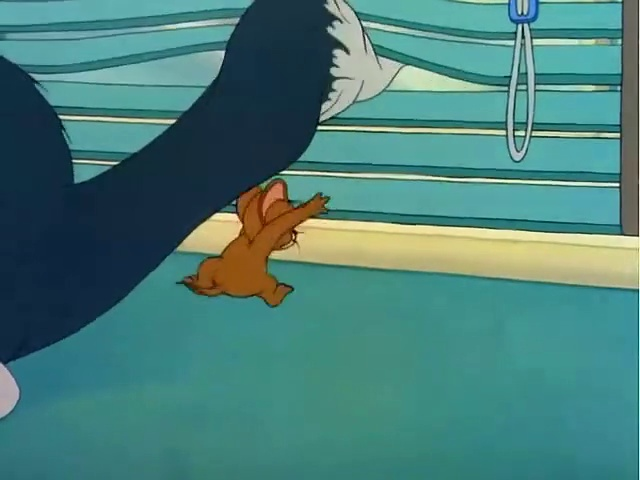jerry: (152, 142, 343, 318)
